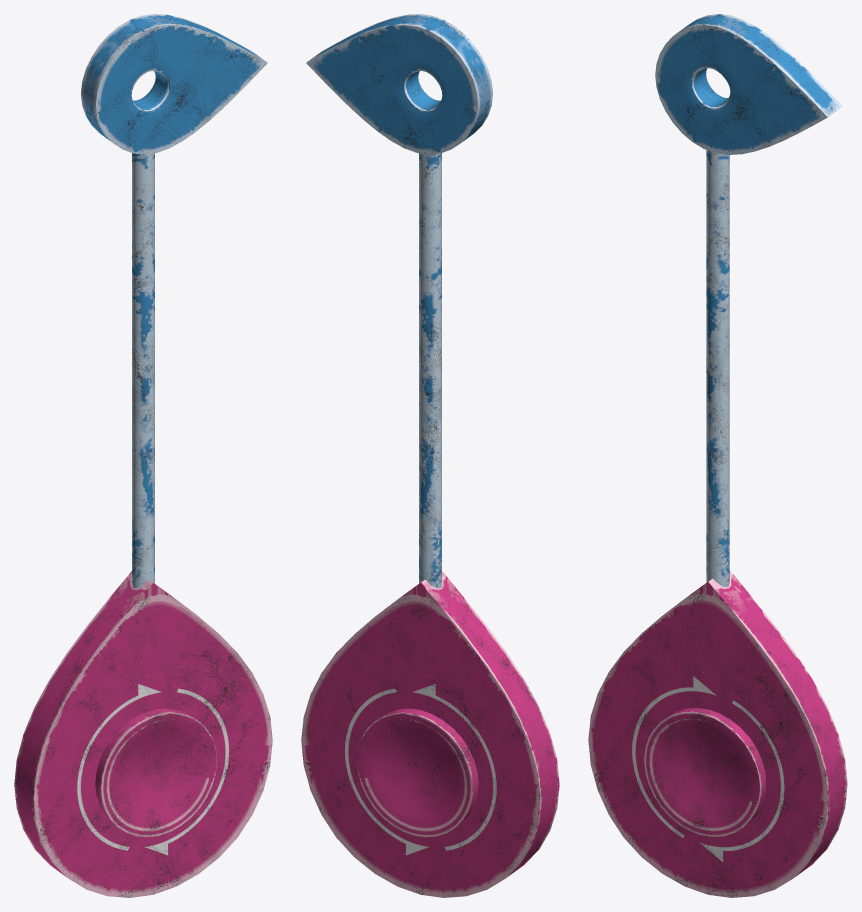
File: light.glb
The picture shows the model from 3 angles, left to right: view 1: azimuth 30°, elevation 25°; view 2: azimuth 150°, elevation 25°; view 3: azimuth 330°, elevation 25°; orthographic projection.
Visible parts, largest first — view 1: light_low; view 2: light_low; view 3: light_low.
Boxes of the visible parts, x1,y1,x2,y2 form: light_low: (14,14,272,897); light_low: (301,14,559,897); light_low: (588,14,847,897).
Bounding box in the file's own units: 1.02 × 3.53 × 0.2332.
Materials: 1 (1 with a texture image).
